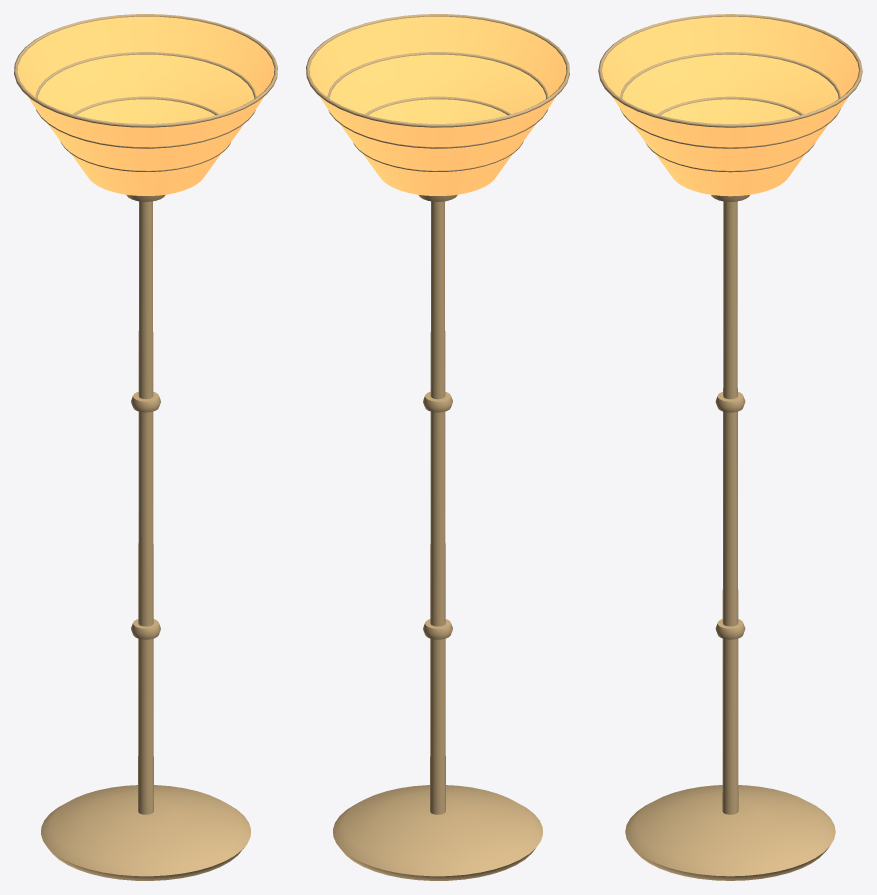
Rendered from floor_lamp.glb.
The picture shows the model from 3 angles, left to right: view 1: azimuth 30°, elevation 25°; view 2: azimuth 150°, elevation 25°; view 3: azimuth 270°, elevation 25°; orthographic projection.
Parts seen in each view (by area): view 1: lamp_shade, lamp_brass; view 2: lamp_shade, lamp_brass; view 3: lamp_shade, lamp_brass.
Boxes of the visible parts, x1=… form: lamp_shade: x1=17, y1=16, x2=274, y2=195; lamp_brass: x1=14, y1=14, x2=277, y2=880; lamp_shade: x1=309, y1=16, x2=566, y2=195; lamp_brass: x1=306, y1=14, x2=569, y2=880; lamp_shade: x1=602, y1=16, x2=858, y2=196; lamp_brass: x1=598, y1=14, x2=862, y2=880.
Bounding box in the file's own units: 0.527 × 1.69 × 0.527.
